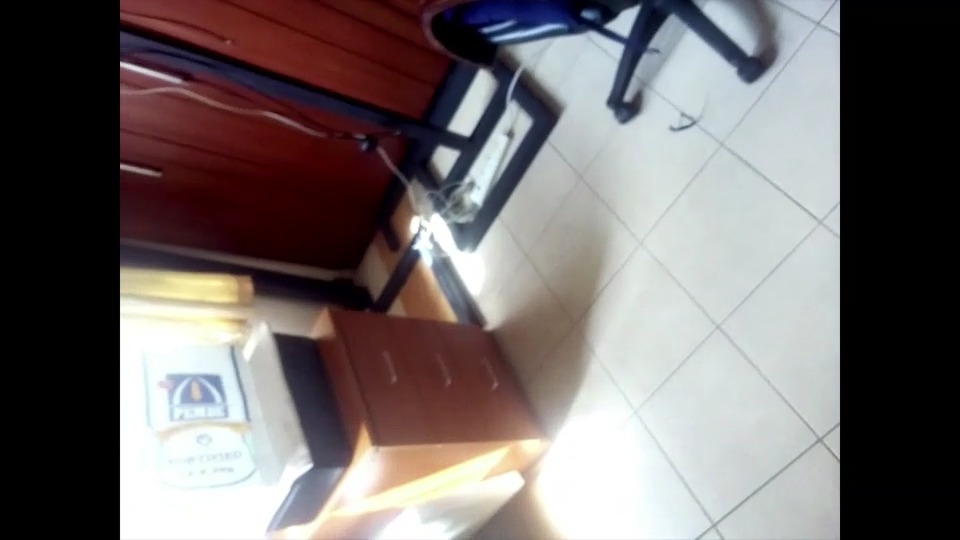wheat_flour_blue_label: (138, 324, 309, 520)
